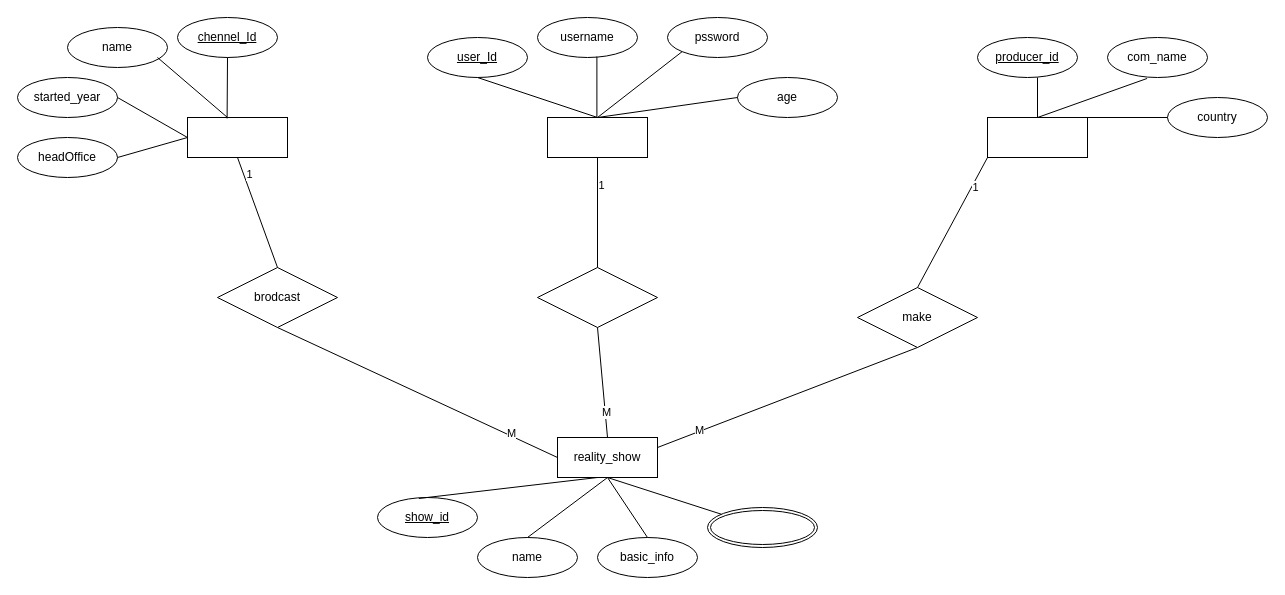
Image size: 1285x595. Some labels were removed from this diagram. Each missing label, with the centre of its shape:
partisipant_name: the point at 762,527
producer: the point at 1037,137
rate: the point at 597,297
Tv_channel: the point at 237,137
user: the point at 597,137
